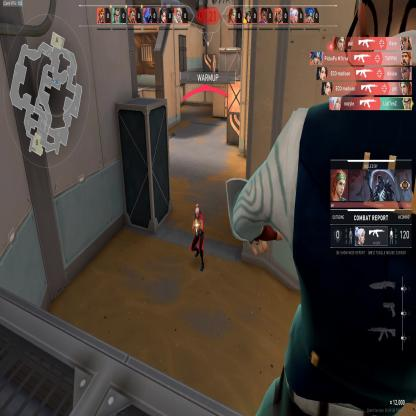enemy: (190, 202, 205, 274)
